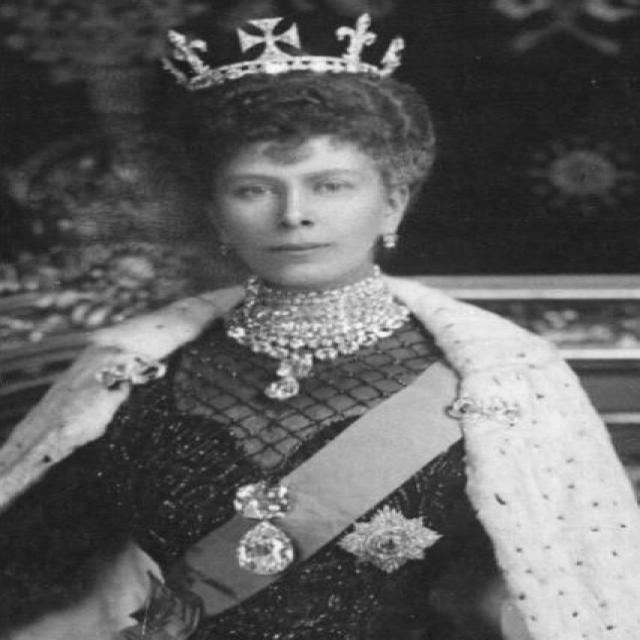Earring: (213, 228, 244, 262), (379, 228, 399, 254)
